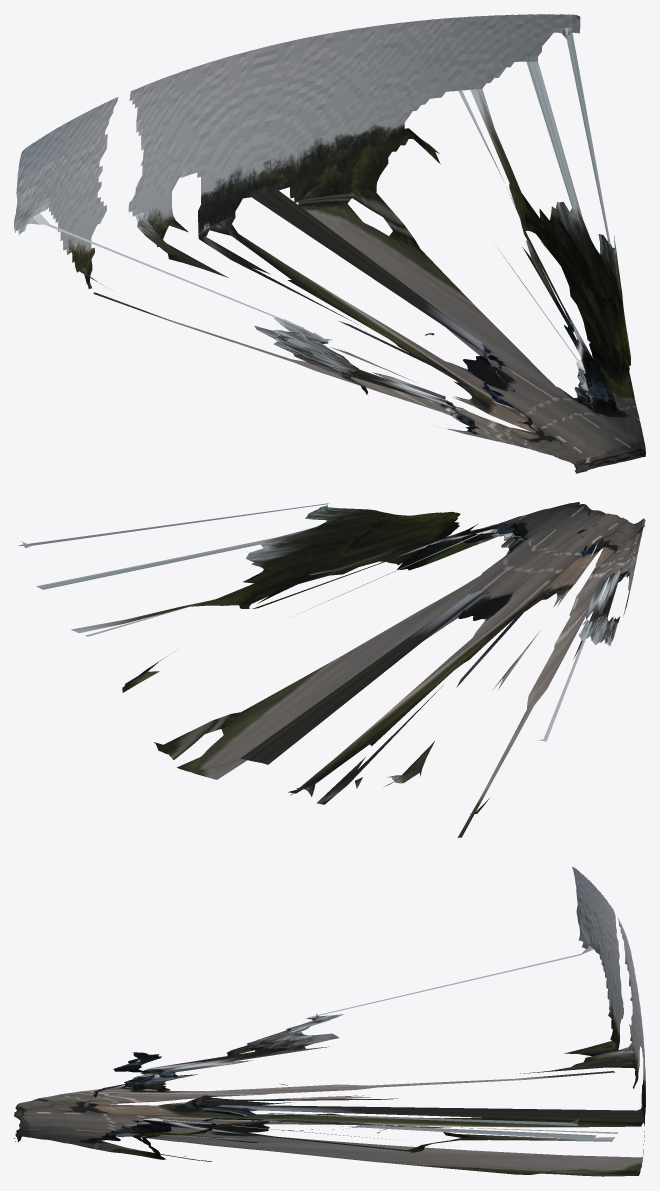
3 renders of one model, top to bottom at view 1: azimuth 30°, elevation 25°; view 2: azimuth 150°, elevation 25°; view 3: azimuth 270°, elevation 25°, orthographic. The views are drawn at different scales.
Visible parts, largest first — view 1: defaultobject; view 2: defaultobject; view 3: defaultobject.
Boxes of the visible parts, <box> form: defaultobject: <box>14,14,645,473</box>; defaultobject: <box>18,502,645,837</box>; defaultobject: <box>14,866,645,1176</box>.
Bounding box in the file's own units: 40.86 × 13.45 × 44.23.
Materials: 1 (1 with a texture image).
